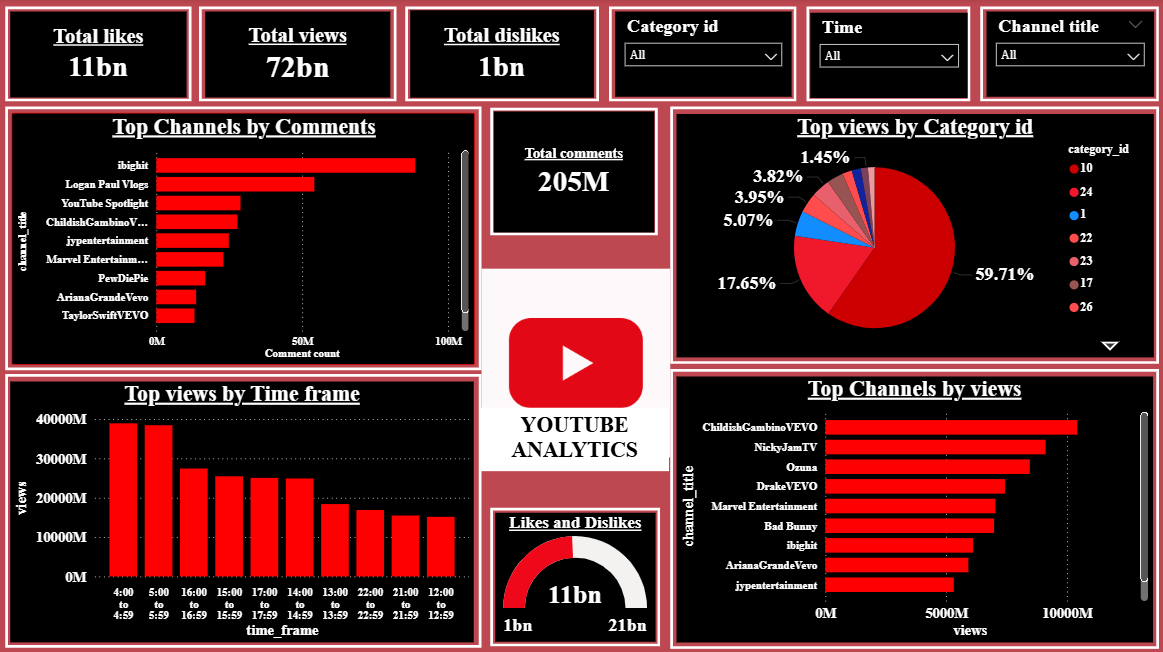

The dashboard page shown, as its layout file describes it:
{"tool":"powerbi","page":{"name":"Page 1","canvas":[1280,720],"ordinal":0},"visuals":[{"type":"shape","box":[539.3,558.5,186.6,152.3],"z":0},{"type":"shape","box":[539.3,119.4,183.9,140],"z":1000},{"type":"shape","box":[1077.2,8.2,196.2,104.3],"z":2000},{"type":"shape","box":[886.5,8.2,179.8,104.3],"z":3000},{"type":"shape","box":[669.6,8.2,205.8,104.3],"z":4000},{"type":"shape","box":[446,8.2,212.7,104.3],"z":5000},{"type":"shape","box":[6.9,8.2,204.5,104.3],"z":6000},{"type":"shape","box":[219.6,8.2,216.8,104.3],"z":7000},{"type":"shape","box":[6.9,411.7,522.8,300.5],"z":8000},{"type":"shape","box":[736.9,406.2,536.5,307.4],"z":9000},{"type":"shape","box":[736.9,118,536.5,282.7],"z":10000},{"type":"shape","box":[6.9,118,522.8,289.5],"z":11000},{"type":"pieChart","title":"Top views by Category id","fields":{"Y":["Sum(youtube.views)"],"Category":["youtube.category_id"]},"box":[743.7,126.2,524.2,267.6],"z":12000},{"type":"barChart","title":"Top Channels by views","fields":{"Category":["youtube.channel_title"],"Y":["Sum(youtube.views)"]},"box":[743.7,414.4,522.8,292.3],"z":13000},{"type":"columnChart","title":"Top views by Time frame","fields":{"Y":["Sum(youtube.views)"],"Category":["youtube.time_frame"]},"box":[12.3,419.9,509.1,286.8],"z":14000},{"type":"slicer","fields":{"Values":["youtube.time_frame"]},"box":[890.6,15.1,172.9,93.3],"z":15000},{"type":"cardVisual","fields":{"Data":["Sum(youtube.dislikes)"]},"box":[451.5,12.3,201.7,96.1],"z":16000},{"type":"cardVisual","fields":{"Data":["Sum(youtube.likes)"]},"box":[12.3,13.7,193.5,94.7],"z":17000},{"type":"slicer","fields":{"Values":["youtube.category_id"]},"box":[676.5,13.7,193.5,93.3],"z":18000},{"type":"slicer","fields":{"Values":["youtube.channel_title"]},"box":[1084.1,13.7,183.9,93.3],"z":19000},{"type":"barChart","title":"Top Channels by Comments","fields":{"Category":["youtube.channel_title"],"Y":["Sum(youtube.comment_count)"]},"box":[13.7,124.9,509.1,277.2],"z":20000},{"type":"cardVisual","fields":{"Data":["Sum(youtube.views)"]},"box":[226.4,13.7,203.1,94.7],"z":21000},{"type":"image","box":[529.7,284,207.2,230.5],"z":22000},{"type":"textbox","box":[528.3,448.7,207.2,70],"z":23000},{"type":"cardVisual","fields":{"Data":["Sum(youtube.comment_count)"]},"box":[543.4,123.5,175.6,133.1],"z":24000},{"type":"gauge","title":"Likes and Dislikes","fields":{"Y":["Sum(youtube.likes)"],"MinValue":["Sum(youtube.dislikes)"]},"box":[544.8,564,175.6,141.3],"z":25000}]}

Visuals, with their boxes in screenshot pixels (x1, y1, x2, y2), scaled from the page's 1280x720 canvas onto the 1163x652 screenshot:
shape: <bbox>490, 506, 660, 644</bbox>
shape: <bbox>490, 108, 657, 235</bbox>
shape: <bbox>979, 7, 1157, 102</bbox>
shape: <bbox>805, 7, 969, 102</bbox>
shape: <bbox>608, 7, 795, 102</bbox>
shape: <bbox>405, 7, 598, 102</bbox>
shape: <bbox>6, 7, 192, 102</bbox>
shape: <bbox>200, 7, 397, 102</bbox>
shape: <bbox>6, 373, 481, 645</bbox>
shape: <bbox>670, 368, 1157, 646</bbox>
shape: <bbox>670, 107, 1157, 363</bbox>
shape: <bbox>6, 107, 481, 369</bbox>
"Top views by Category id" pieChart: <bbox>676, 114, 1152, 357</bbox>
"Top Channels by views" barChart: <bbox>676, 375, 1151, 640</bbox>
"Top views by Time frame" columnChart: <bbox>11, 380, 474, 640</bbox>
slicer - youtube.time_frame: <bbox>809, 14, 966, 98</bbox>
cardVisual - Sum(youtube.dislikes): <bbox>410, 11, 593, 98</bbox>
cardVisual - Sum(youtube.likes): <bbox>11, 12, 187, 98</bbox>
slicer - youtube.category_id: <bbox>615, 12, 790, 97</bbox>
slicer - youtube.channel_title: <bbox>985, 12, 1152, 97</bbox>
"Top Channels by Comments" barChart: <bbox>12, 113, 475, 364</bbox>
cardVisual - Sum(youtube.views): <bbox>206, 12, 390, 98</bbox>
image: <bbox>481, 257, 670, 466</bbox>
textbox: <bbox>480, 406, 668, 470</bbox>
cardVisual - Sum(youtube.comment_count): <bbox>494, 112, 653, 232</bbox>
"Likes and Dislikes" gauge: <bbox>495, 511, 655, 639</bbox>
